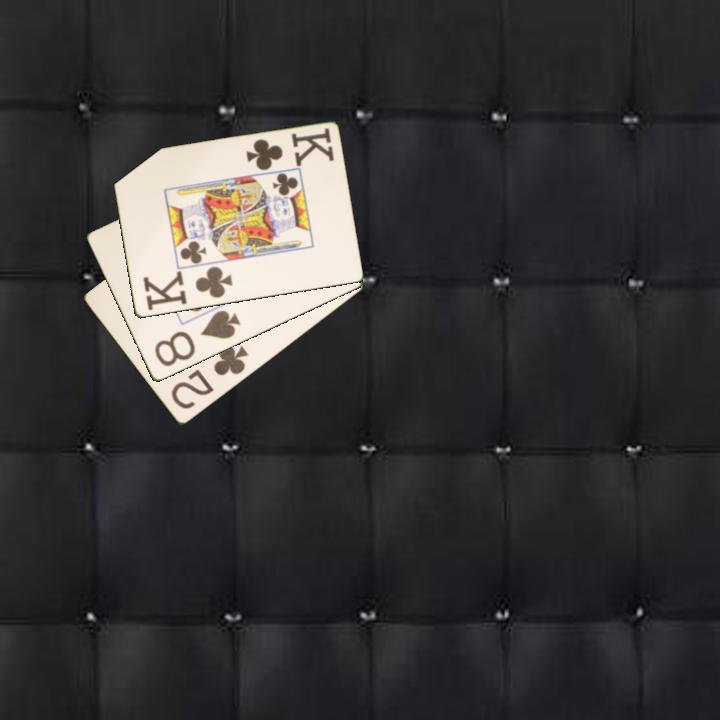2c: (167, 342, 251, 413)
8s: (151, 307, 243, 370)
Kc: (139, 263, 235, 314), (242, 125, 337, 174)
